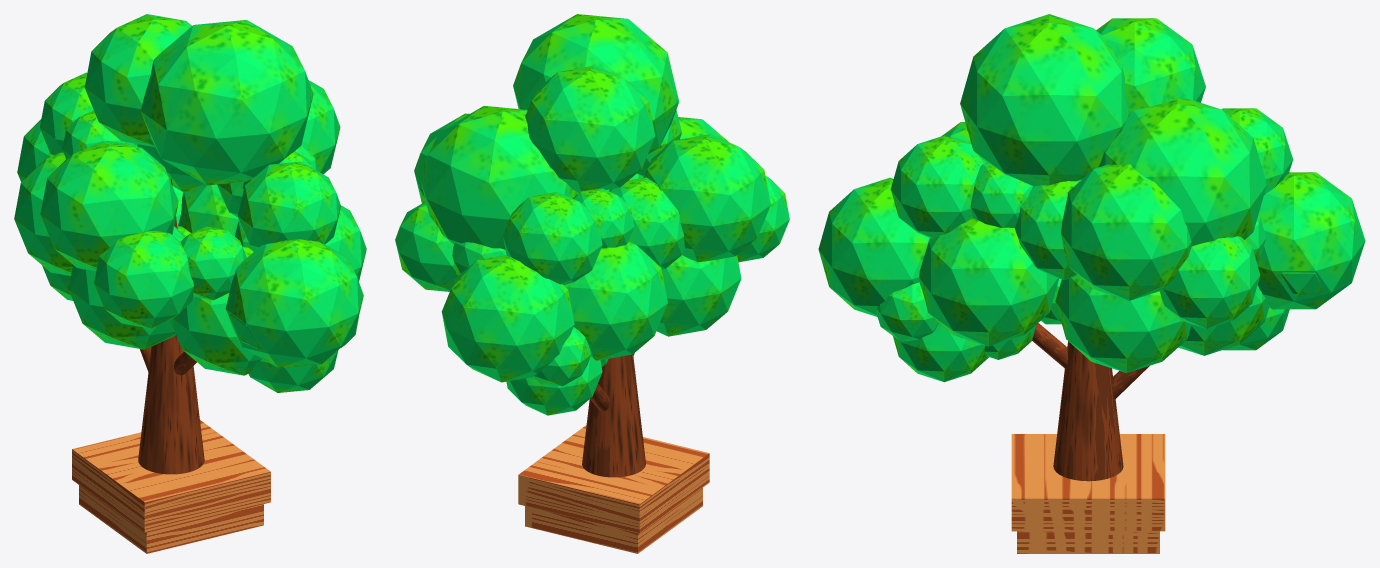
The model's file is Tree.obj.
3 views of the same model, side by side, from view 1: azimuth 30°, elevation 25°; view 2: azimuth 150°, elevation 25°; view 3: azimuth 270°, elevation 25° (orthographic). The views are drawn at different scales.
Visible parts, largest first — view 1: ICO球.029, ICO球.021, Cube.001, ICO球.003, ICO球.006, ICO球.002, ICO球.026, 円錐, ICO球, Cube, ICO球.009, ICO球.014 (+12 smaller); view 2: ICO球.032, ICO球.010, ICO球.002, Cube.001, ICO球.003, ICO球.029, ICO球.001, ICO球.005, 円錐, ICO球.009, ICO球.008, ICO球.025 (+9 smaller); view 3: ICO球.029, ICO球.032, ICO球.028, ICO球.030, Cube.001, ICO球.010, ICO球.021, ICO球.022, 円錐, ICO球.026, ICO球.002, ICO球.025 (+11 smaller).
Boxes of the visible parts, x1,y1,x2,y2 form: ICO球.029: (141, 20, 313, 185); ICO球.021: (225, 239, 363, 368); Cube.001: (72, 420, 270, 532); ICO球.003: (40, 141, 178, 271); ICO球.006: (94, 230, 193, 328); ICO球.002: (84, 14, 191, 146); ICO球.026: (237, 161, 341, 248); 円錐: (138, 177, 204, 474); ICO球: (172, 246, 261, 375); Cube: (79, 485, 263, 553); ICO球.009: (68, 226, 185, 349); ICO球.014: (180, 226, 246, 300); ICO球.032: (420, 105, 578, 249); ICO球.010: (441, 255, 574, 382); ICO球.002: (525, 65, 655, 192); Cube.001: (518, 425, 709, 533); ICO球.003: (644, 134, 770, 261); ICO球.029: (513, 14, 679, 153); ICO球.001: (564, 241, 667, 360); ICO球.005: (503, 192, 602, 284); 円錐: (582, 354, 645, 477); ICO球.009: (656, 255, 741, 336); ICO球.008: (609, 177, 684, 269); ICO球.025: (395, 202, 458, 291); ICO球.029: (960, 14, 1128, 186); ICO球.032: (1099, 98, 1266, 246); ICO球.028: (1061, 164, 1191, 300); ICO球.030: (919, 218, 1058, 346); Cube.001: (1011, 434, 1165, 531); ICO球.010: (1256, 172, 1365, 309); ICO球.021: (818, 177, 929, 316); ICO球.022: (1055, 275, 1191, 372); 円錐: (1053, 341, 1123, 481); ICO球.026: (890, 135, 986, 238); ICO球.002: (1096, 18, 1205, 114); ICO球.025: (1159, 236, 1260, 328).
Size of the model in its own units: 10.73 by 16.08 by 15.33.
6 materials, 6 textured.
